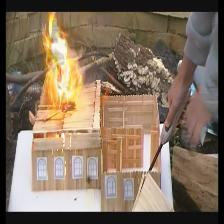fire: (37, 12, 89, 120)
